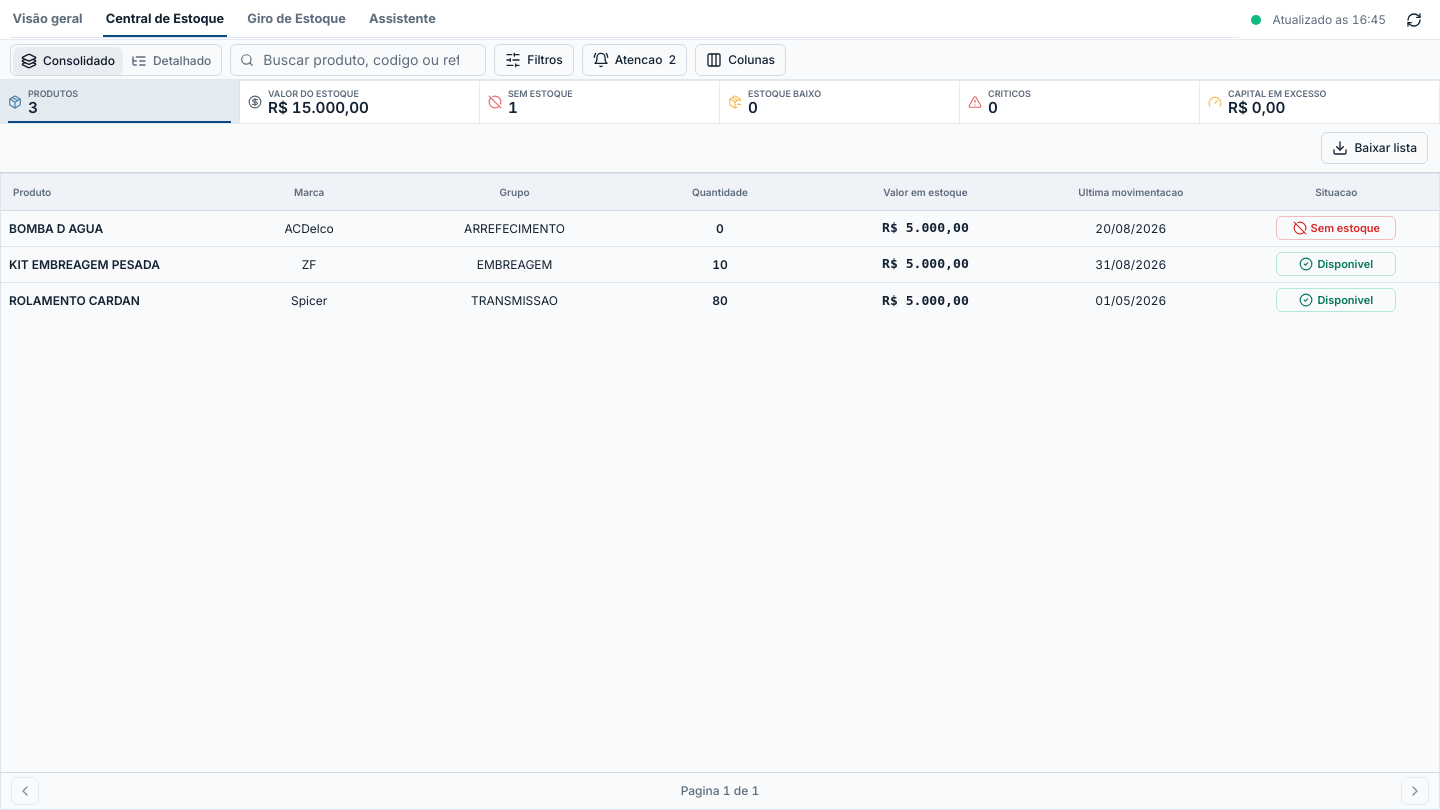
EstoquePage › abre o Assistente de Estoque real
The width and height of the screenshot is (1440, 810).
Click the tab "Assistente" at (402, 19), box [367,1,438,37]
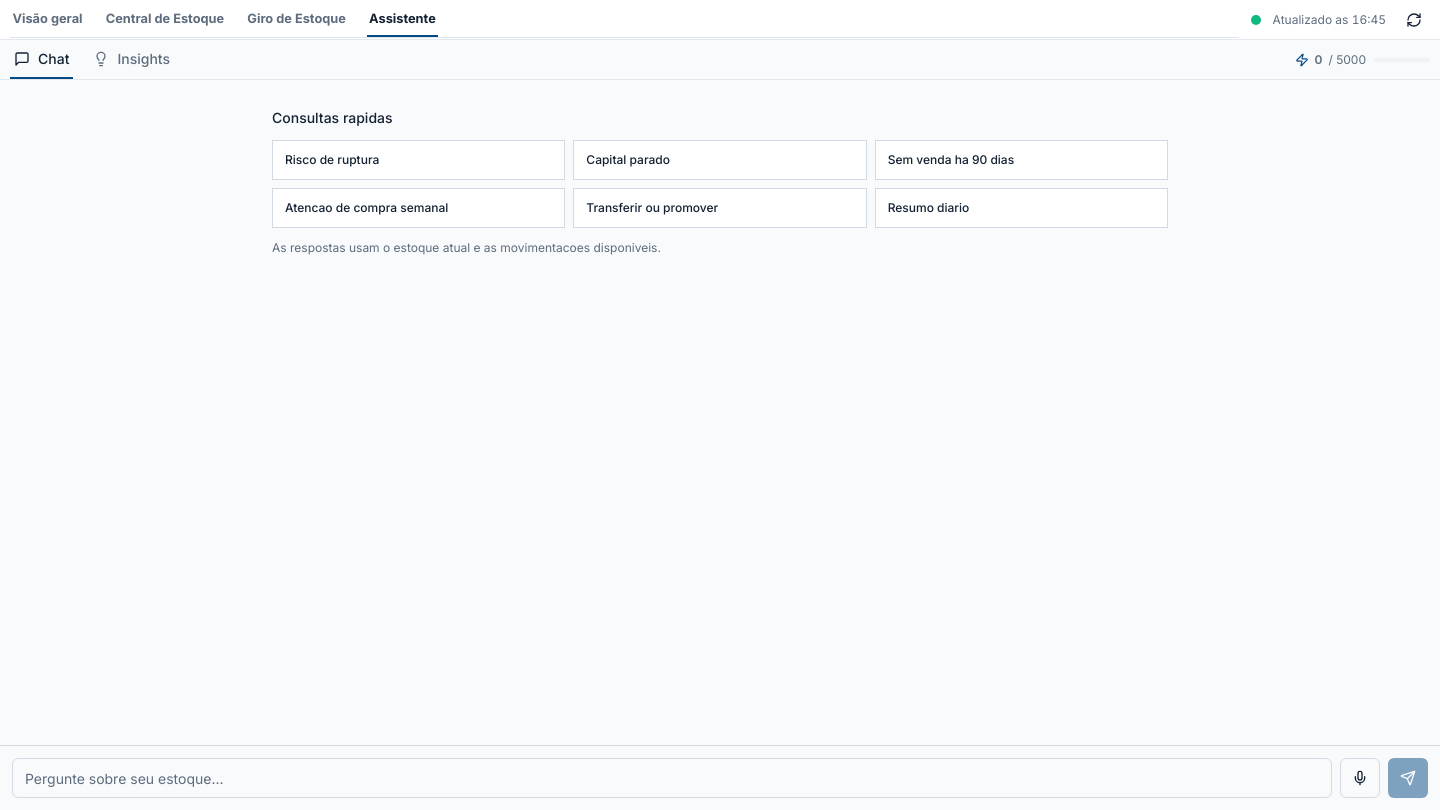
Result: the element named "Assistente de estoque" is shown
Result: the field with placeholder "Pergunte sobre seu estoque..." is shown at [12,758,1332,798]
Result: the tab "Insights" is shown at [89,40,174,79]
